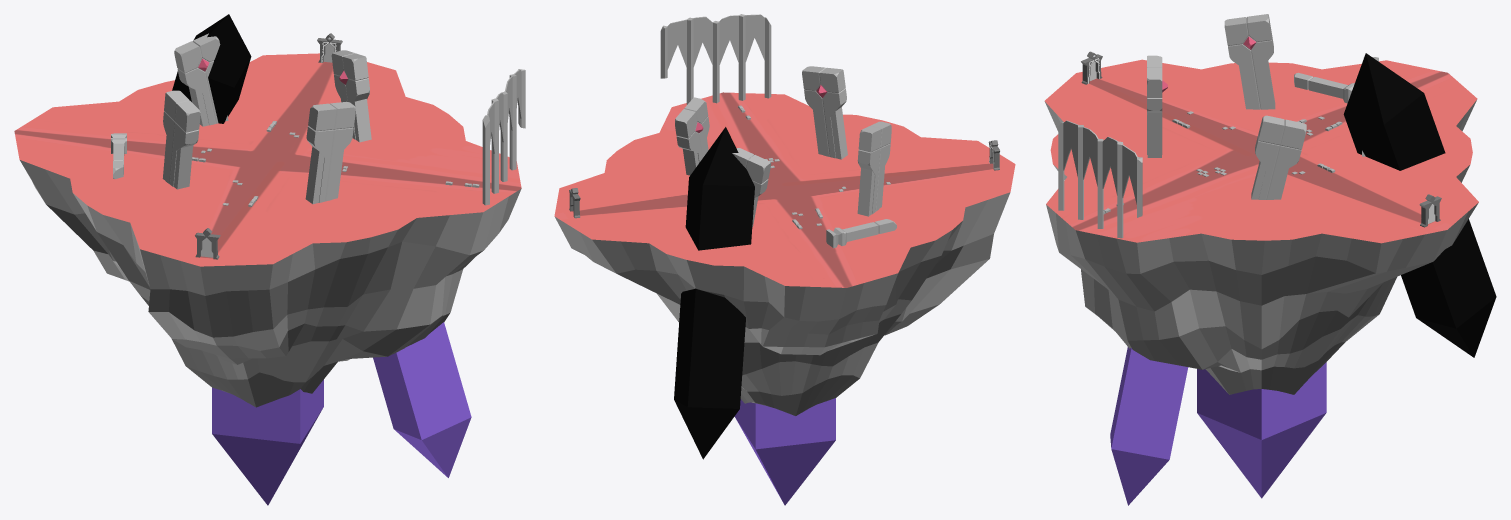
File: island3.fbx
3 renders of one model, left to right at view 1: azimuth 30°, elevation 25°; view 2: azimuth 150°, elevation 25°; view 3: azimuth 270°, elevation 25°, orthographic. The views are drawn at different scales.
Visible parts, largest first — view 1: grass_road_ilha3, rock_ilha3, crystals_ilha3, stone_slabs, fachada_ilha3, corrupted_crystal_ilha3, coluna_ilha3; view 2: grass_road_ilha3, rock_ilha3, corrupted_crystal_ilha3, stone_slabs, crystals_ilha3, fachada_ilha3, coluna_ilha3; view 3: grass_road_ilha3, rock_ilha3, crystals_ilha3, corrupted_crystal_ilha3, stone_slabs, fachada_ilha3, coluna_ilha3, calcada_ilha3.
Part boxes in pixels (left/top/right/bottom): grass_road_ilha3: left=14, top=53, right=521, bottom=266; rock_ilha3: left=20, top=160, right=521, bottom=407; crystals_ilha3: left=212, top=322, right=471, bottom=505; stone_slabs: left=162, top=33, right=371, bottom=204; fachada_ilha3: left=482, top=69, right=525, bottom=205; corrupted_crystal_ilha3: left=172, top=14, right=251, bottom=123; coluna_ilha3: left=111, top=133, right=126, bottom=179; grass_road_ilha3: left=554, top=92, right=1015, bottom=287; rock_ilha3: left=555, top=192, right=1010, bottom=415; corrupted_crystal_ilha3: left=674, top=127, right=754, bottom=459; stone_slabs: left=675, top=66, right=891, bottom=226; crystals_ilha3: left=734, top=398, right=835, bottom=505; fachada_ilha3: left=660, top=14, right=771, bottom=104; coluna_ilha3: left=826, top=219, right=896, bottom=248; grass_road_ilha3: left=1045, top=59, right=1478, bottom=243; rock_ilha3: left=1044, top=100, right=1478, bottom=394; crystals_ilha3: left=1110, top=347, right=1326, bottom=505; corrupted_crystal_ilha3: left=1343, top=53, right=1496, bottom=357; stone_slabs: left=1147, top=14, right=1378, bottom=199; fachada_ilha3: left=1058, top=120, right=1142, bottom=238; coluna_ilha3: left=1294, top=72, right=1354, bottom=103; calcada_ilha3: left=1103, top=111, right=1342, bottom=214.
Size of what is drawn, in the model's own units: 6224 by 6994 by 6338.
